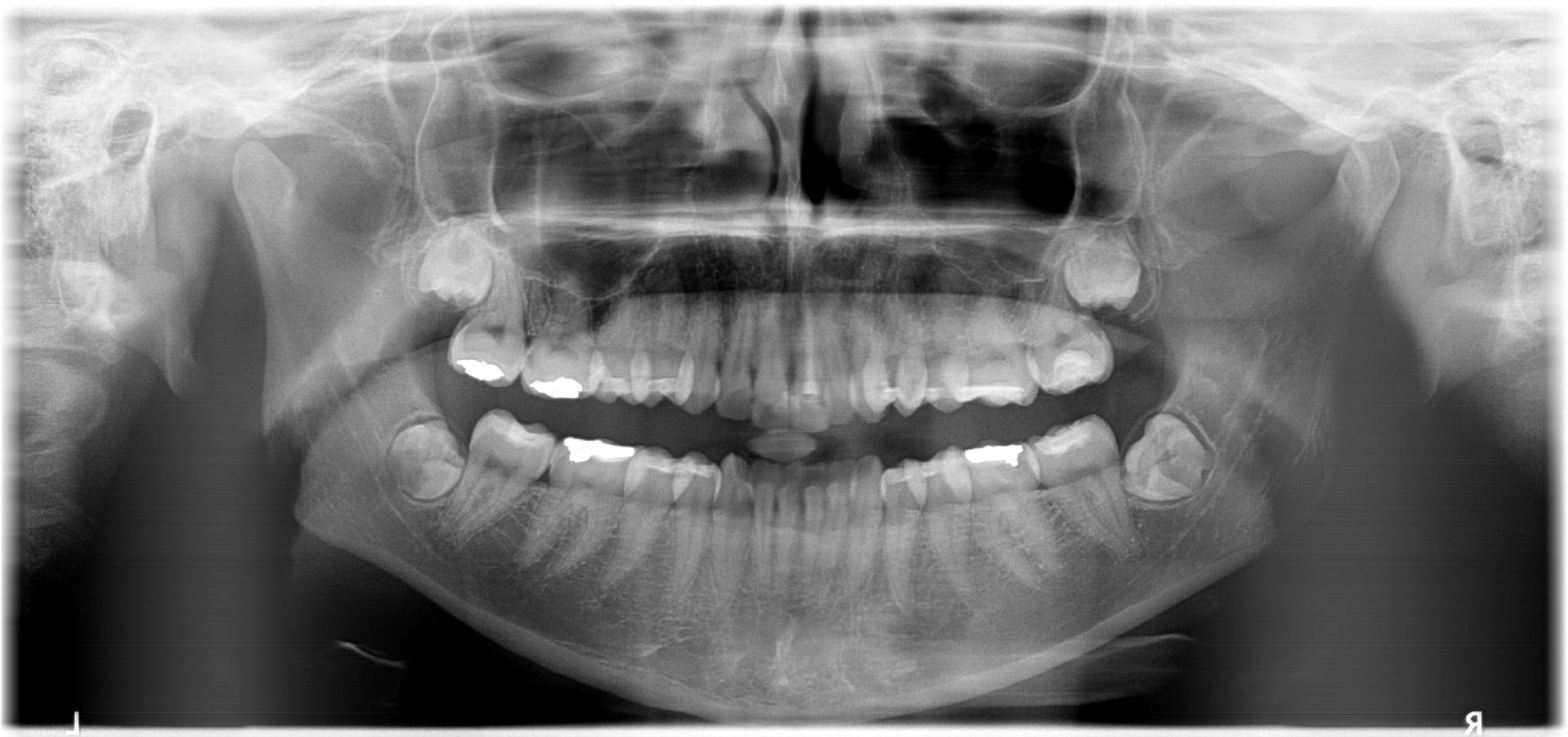Premolars: (521, 225, 1538, 656), (522, 215, 1568, 589), (631, 226, 1568, 613), (566, 204, 1568, 521), (471, 189, 1396, 488), (329, 228, 970, 658), (593, 150, 1568, 372), (256, 202, 666, 611), (308, 181, 899, 464), (252, 146, 740, 369)
